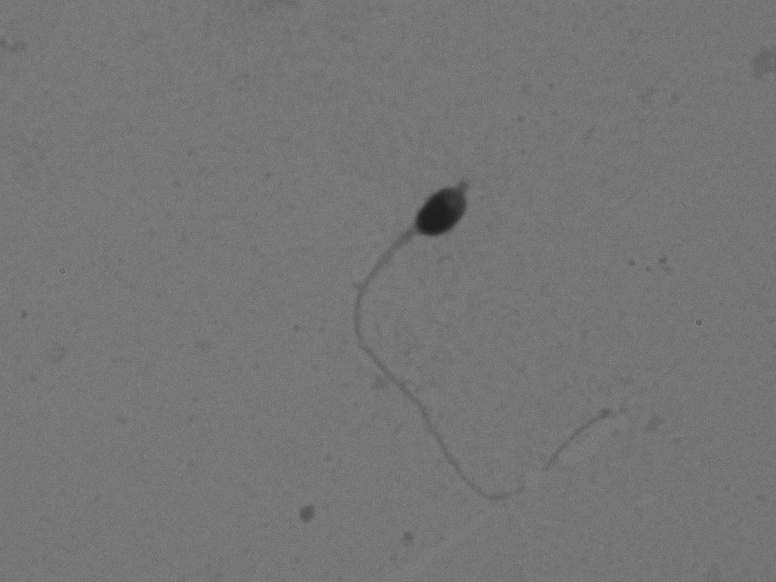Abnormal: (267, 115, 712, 529)
